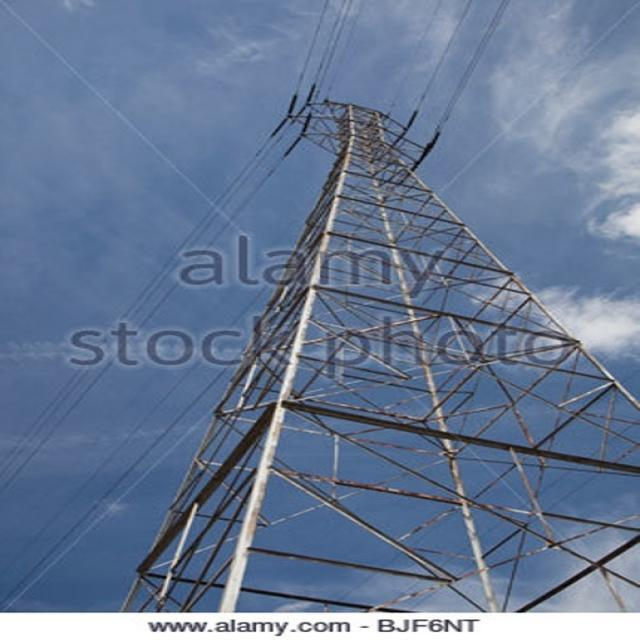non-critical vegetation: (200, 95, 630, 600)
